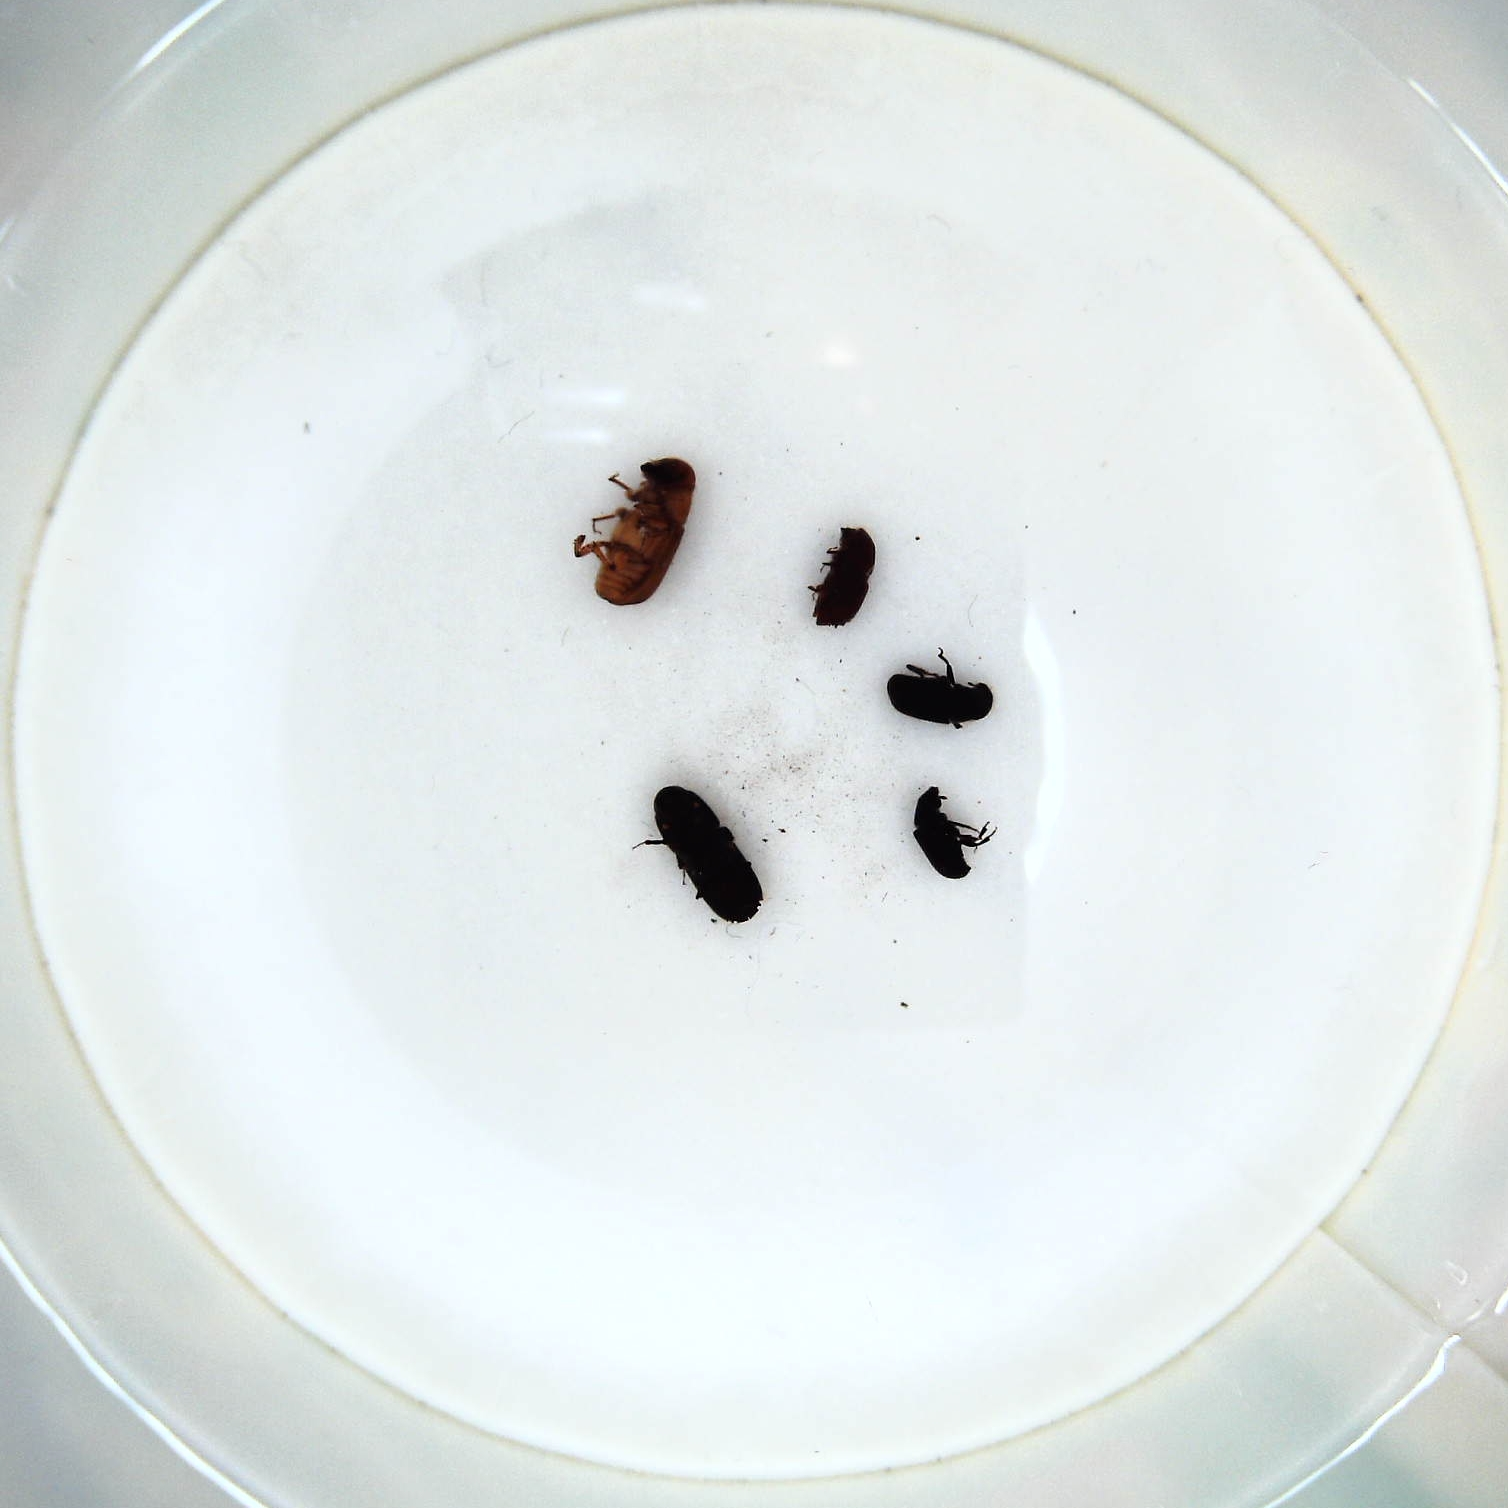Boerner: (632, 782, 772, 932)
Leconte: (569, 452, 699, 610)
armandi: (882, 648, 996, 735)
coleoptera: (911, 783, 996, 887)
linnaeus: (808, 518, 884, 635)
